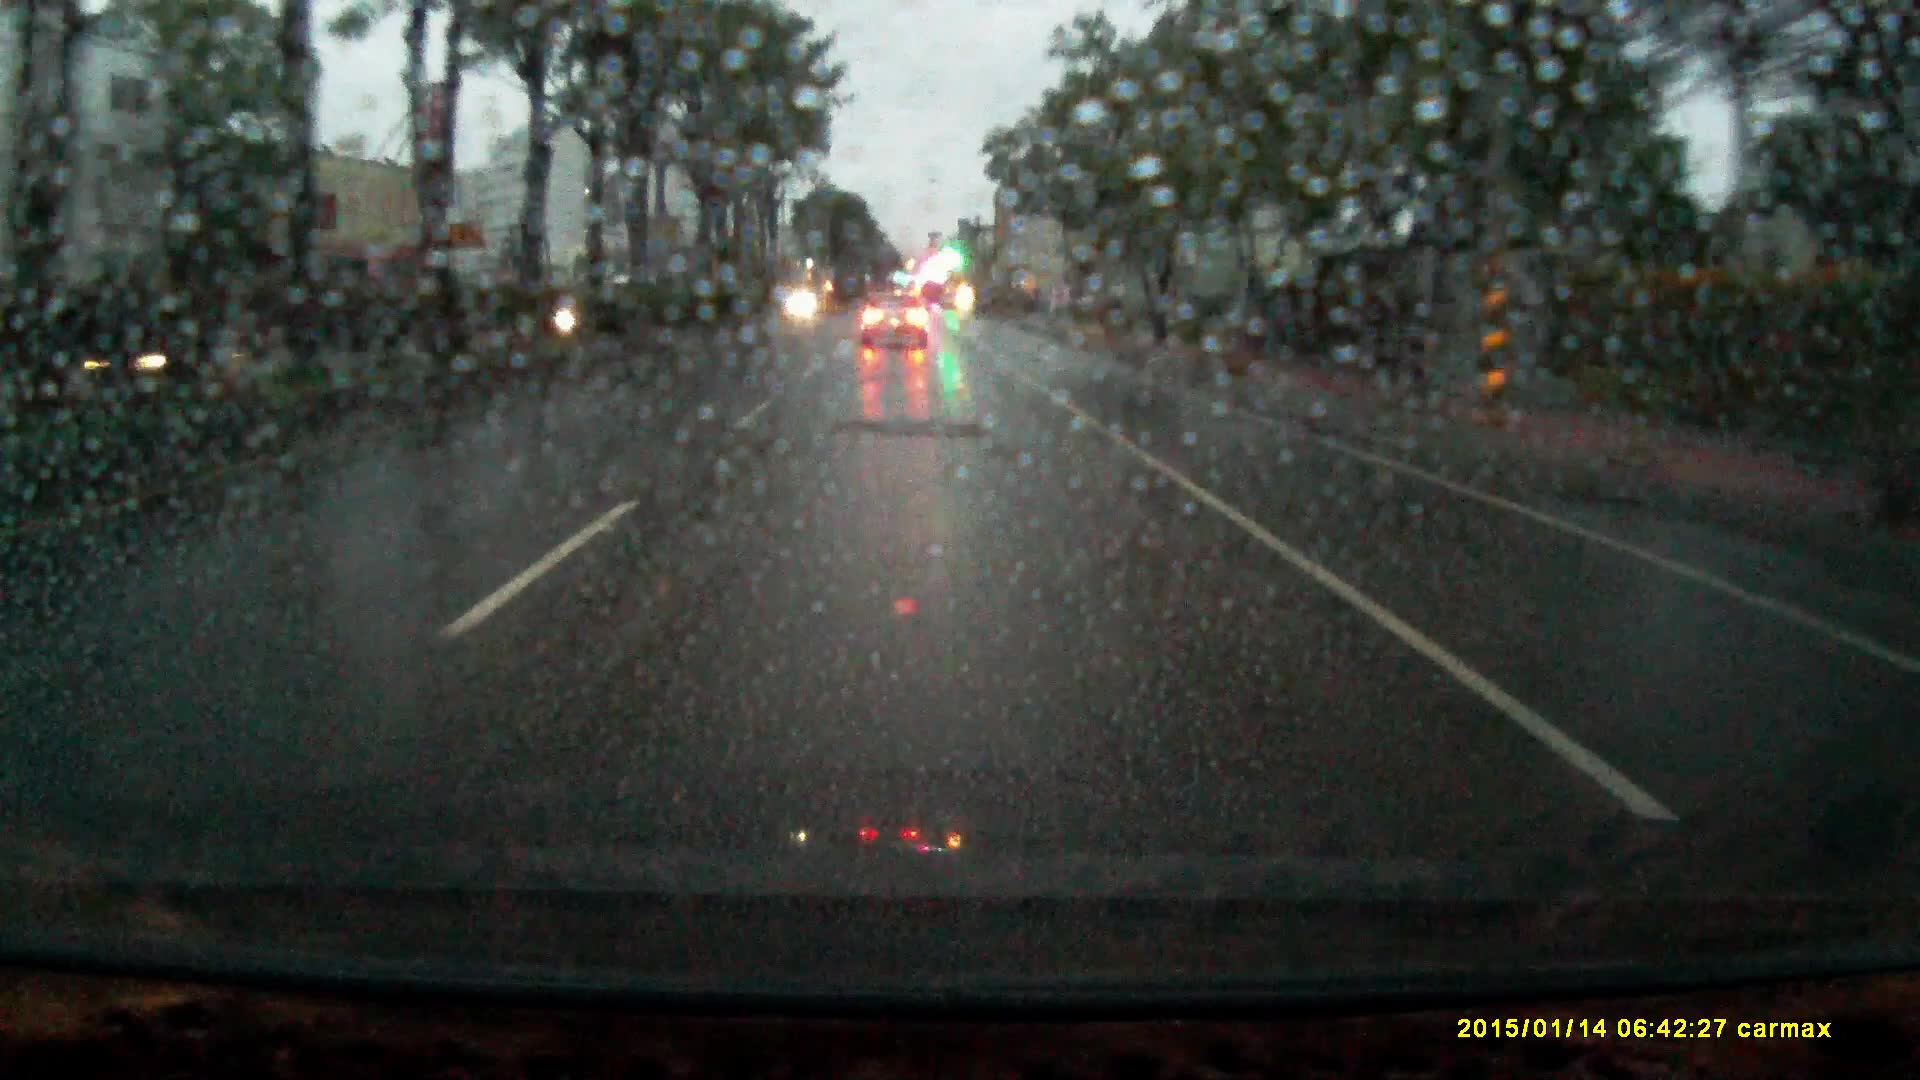vehicle: (862, 284, 930, 342)
